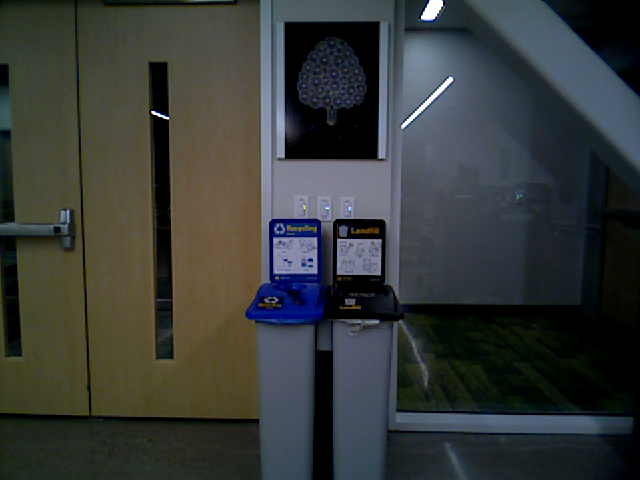painting1: (273, 18, 394, 167)
